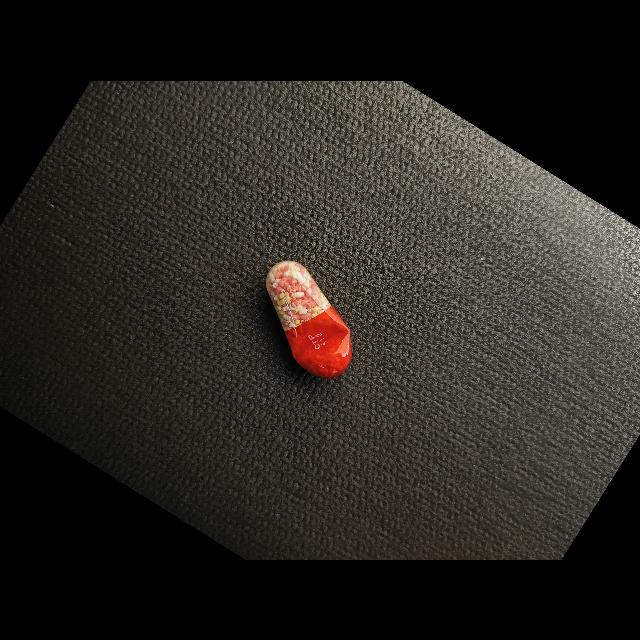Defective Capsule: (266, 260, 352, 377)
